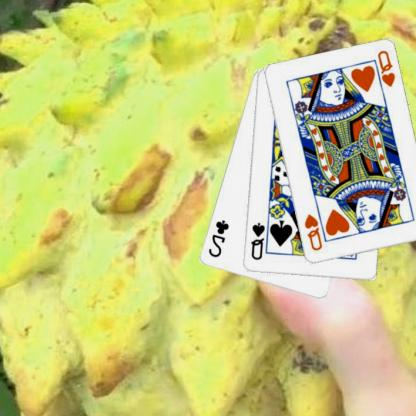2C: (207, 218, 231, 259)
QH: (372, 48, 398, 96), (303, 212, 325, 253)
QS: (250, 221, 267, 262)
